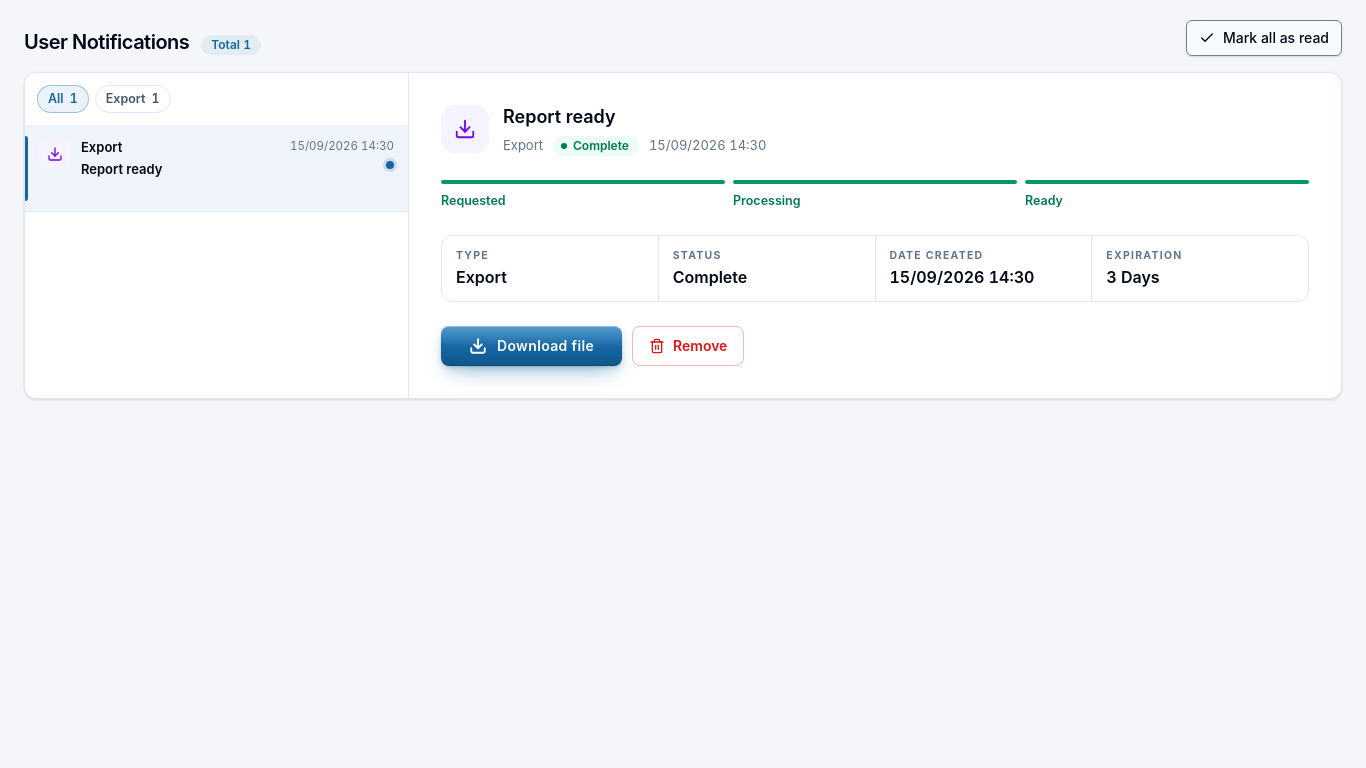
it: UserNotificationsScreen › shows safe mode when delete is blocked
What coordinates should you click on to do the following:
click the button "Remove"
I would click on:
 (688, 346)
Its box is [632,326,744,366].
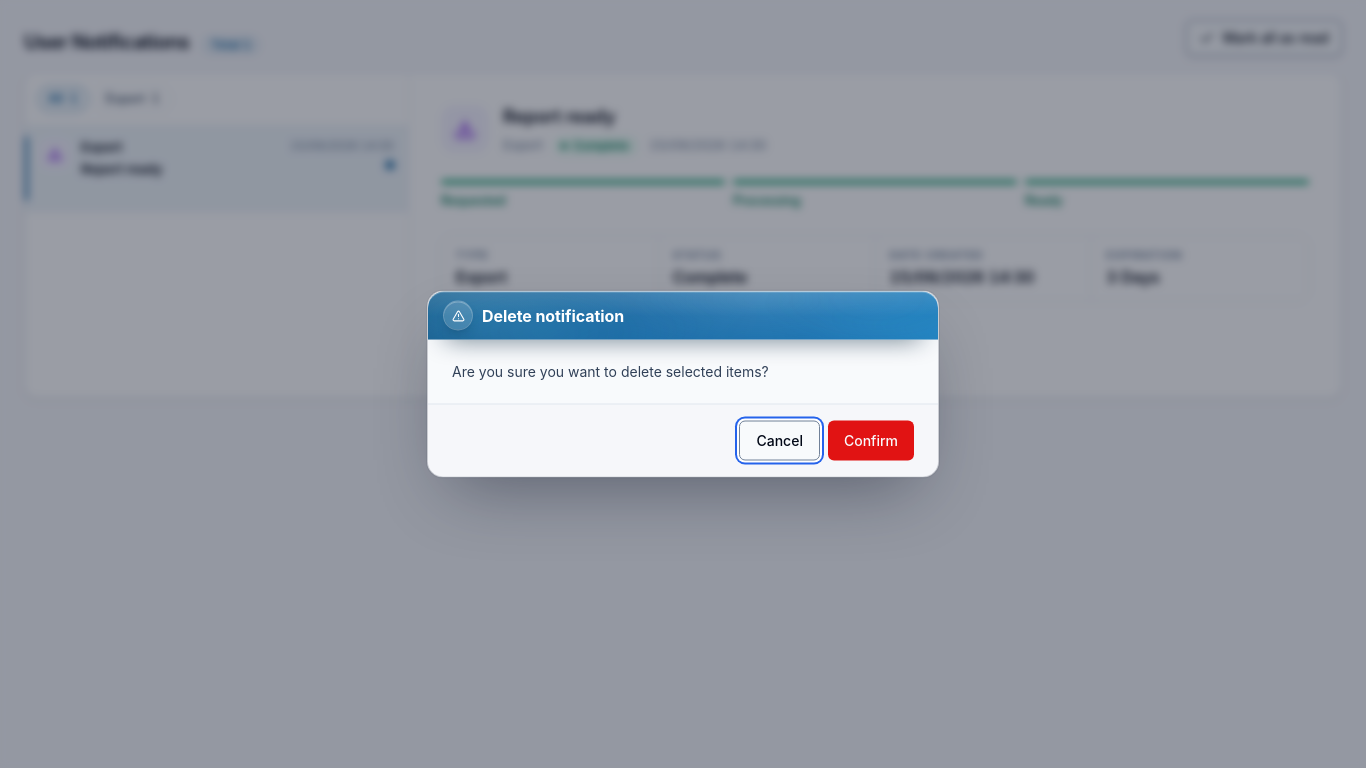
What coordinates should you click on to do the following:
click the button "Confirm"
I would click on:
 (871, 440)
Its box is [828,420,914,460].
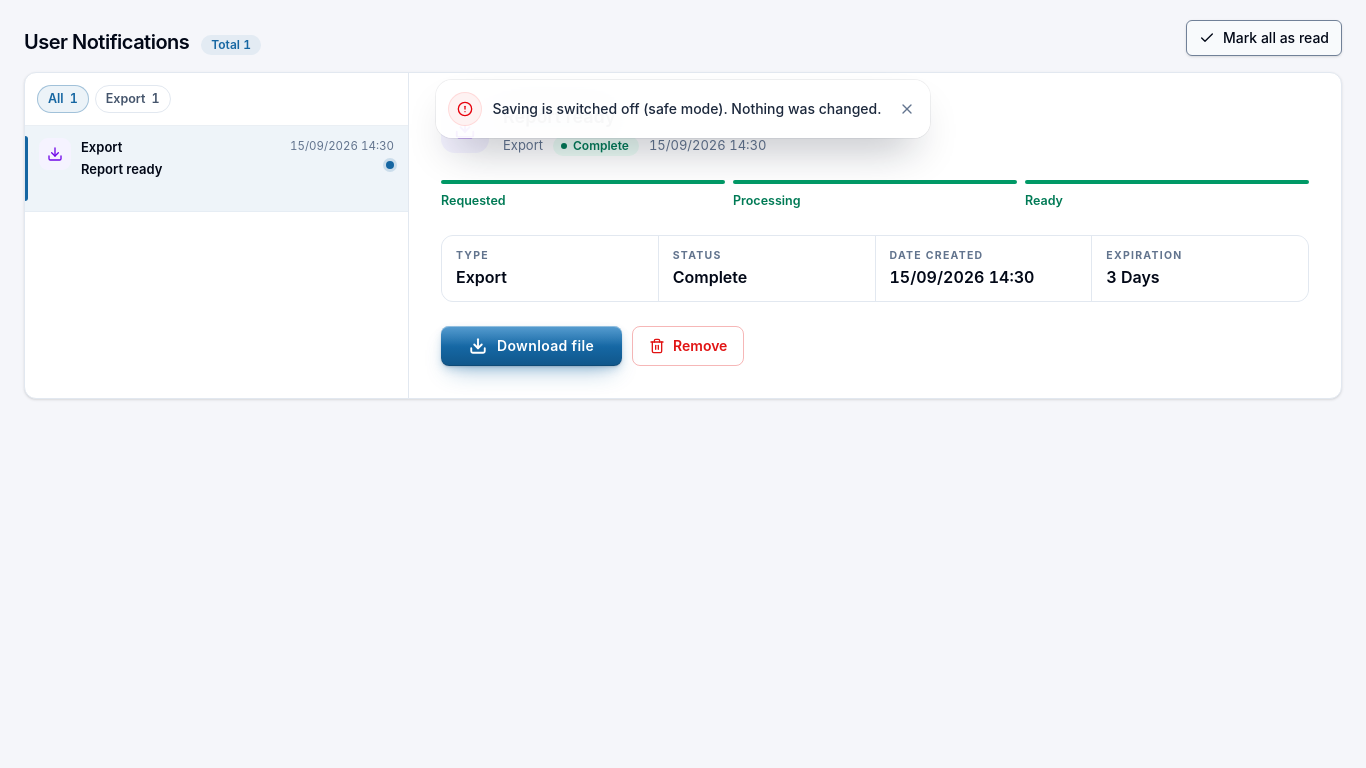
Expected: the text "Saving is switched off (safe mode). Nothing was changed." is shown, [492,99,881,119]
